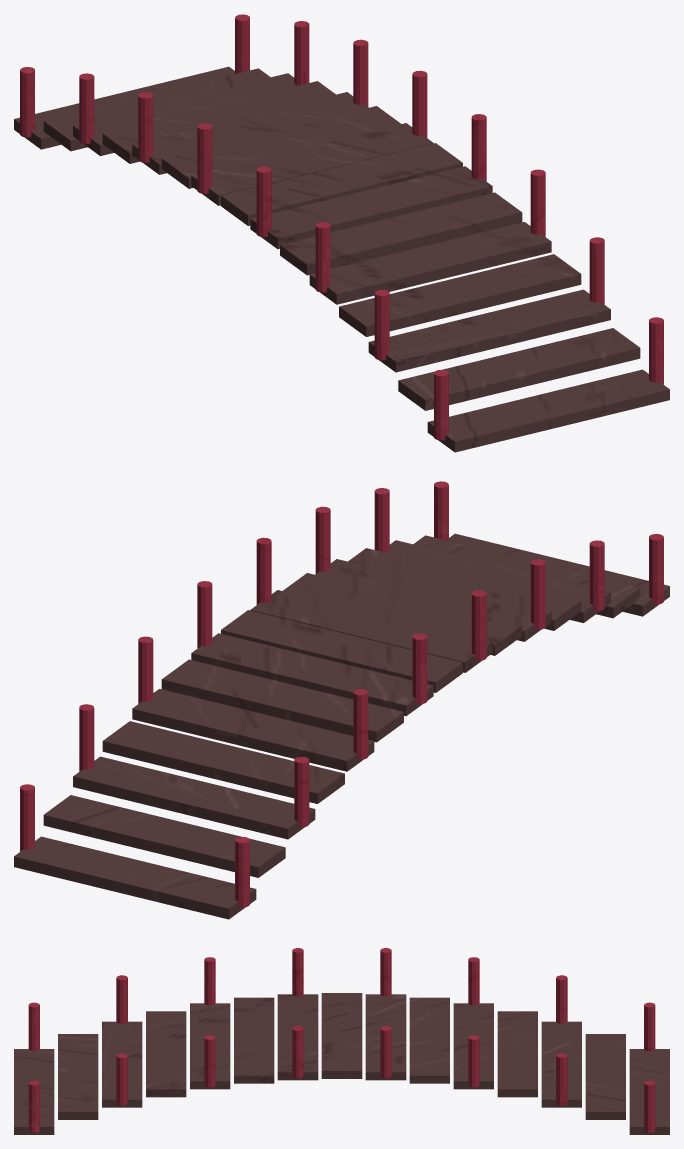
The model's file is moonfall_arch_bridge_lod1.glb.
3 renders of one model, top to bottom at view 1: azimuth 30°, elevation 25°; view 2: azimuth 150°, elevation 25°; view 3: azimuth 270°, elevation 25°, orthographic. The views are drawn at different scales.
Parts seen in each view (by area): view 1: moonfall_arch_bridge_012, moonfall_arch_bridge_014, moonfall_arch_bridge_010, moonfall_arch_bridge_011, moonfall_arch_bridge_013, moonfall_arch_bridge_009, moonfall_arch_bridge_008, moonfall_arch_bridge_007, moonfall_arch_bridge_006, moonfall_arch_bridge_005, moonfall_arch_bridge_004, moonfall_arch_bridge_003 (+19 smaller); view 2: moonfall_arch_bridge_002, moonfall_arch_bridge_000, moonfall_arch_bridge_004, moonfall_arch_bridge_003, moonfall_arch_bridge_001, moonfall_arch_bridge_005, moonfall_arch_bridge_006, moonfall_arch_bridge_007, moonfall_arch_bridge_008, moonfall_arch_bridge_009, moonfall_arch_bridge_010, moonfall_arch_bridge_011 (+19 smaller); view 3: moonfall_arch_bridge_007, moonfall_arch_bridge_003, moonfall_arch_bridge_005, moonfall_arch_bridge_009, moonfall_arch_bridge_011, moonfall_arch_bridge_001, moonfall_arch_bridge_013, moonfall_arch_bridge_006, moonfall_arch_bridge_008, moonfall_arch_bridge_004, moonfall_arch_bridge_010, moonfall_arch_bridge_002 (+19 smaller).
Part boxes in pixels (left/top/right/bottom): moonfall_arch_bridge_012: left=368, top=289, right=610, bottom=372; moonfall_arch_bridge_014: left=427, top=369, right=669, bottom=452; moonfall_arch_bridge_010: left=309, top=222, right=551, bottom=304; moonfall_arch_bridge_011: left=339, top=254, right=581, bottom=336; moonfall_arch_bridge_013: left=398, top=328, right=640, bottom=410; moonfall_arch_bridge_009: left=280, top=192, right=522, bottom=275; moonfall_arch_bridge_008: left=250, top=166, right=492, bottom=249; moonfall_arch_bridge_007: left=221, top=143, right=462, bottom=225; moonfall_arch_bridge_006: left=191, top=123, right=433, bottom=205; moonfall_arch_bridge_005: left=161, top=106, right=400, bottom=188; moonfall_arch_bridge_004: left=132, top=92, right=368, bottom=174; moonfall_arch_bridge_003: left=102, top=81, right=335, bottom=163; moonfall_arch_bridge_002: left=73, top=756, right=315, bottom=839; moonfall_arch_bridge_000: left=14, top=836, right=256, bottom=919; moonfall_arch_bridge_004: left=132, top=689, right=374, bottom=771; moonfall_arch_bridge_003: left=102, top=721, right=344, bottom=803; moonfall_arch_bridge_001: left=43, top=795, right=285, bottom=877; moonfall_arch_bridge_005: left=161, top=659, right=403, bottom=742; moonfall_arch_bridge_006: left=191, top=633, right=433, bottom=716; moonfall_arch_bridge_007: left=221, top=610, right=462, bottom=692; moonfall_arch_bridge_008: left=250, top=590, right=492, bottom=672; moonfall_arch_bridge_009: left=283, top=573, right=522, bottom=655; moonfall_arch_bridge_010: left=315, top=559, right=551, bottom=641; moonfall_arch_bridge_011: left=348, top=548, right=581, bottom=630; moonfall_arch_bridge_007: left=321, top=993, right=362, bottom=1078; moonfall_arch_bridge_003: left=497, top=1011, right=537, bottom=1097; moonfall_arch_bridge_005: left=409, top=997, right=449, bottom=1083; moonfall_arch_bridge_009: left=234, top=997, right=274, bottom=1083; moonfall_arch_bridge_011: left=146, top=1011, right=186, bottom=1097; moonfall_arch_bridge_001: left=585, top=1034, right=625, bottom=1119; moonfall_arch_bridge_013: left=58, top=1034, right=98, bottom=1119; moonfall_arch_bridge_006: left=365, top=994, right=406, bottom=1080; moonfall_arch_bridge_008: left=277, top=994, right=318, bottom=1080; moonfall_arch_bridge_004: left=453, top=1003, right=493, bottom=1089; moonfall_arch_bridge_010: left=190, top=1003, right=230, bottom=1089; moonfall_arch_bridge_002: left=541, top=1021, right=581, bottom=1107.
Size of the model in its own units: 4.45 by 2.67 by 14.92.
Materials: 2 (2 with a texture image).
